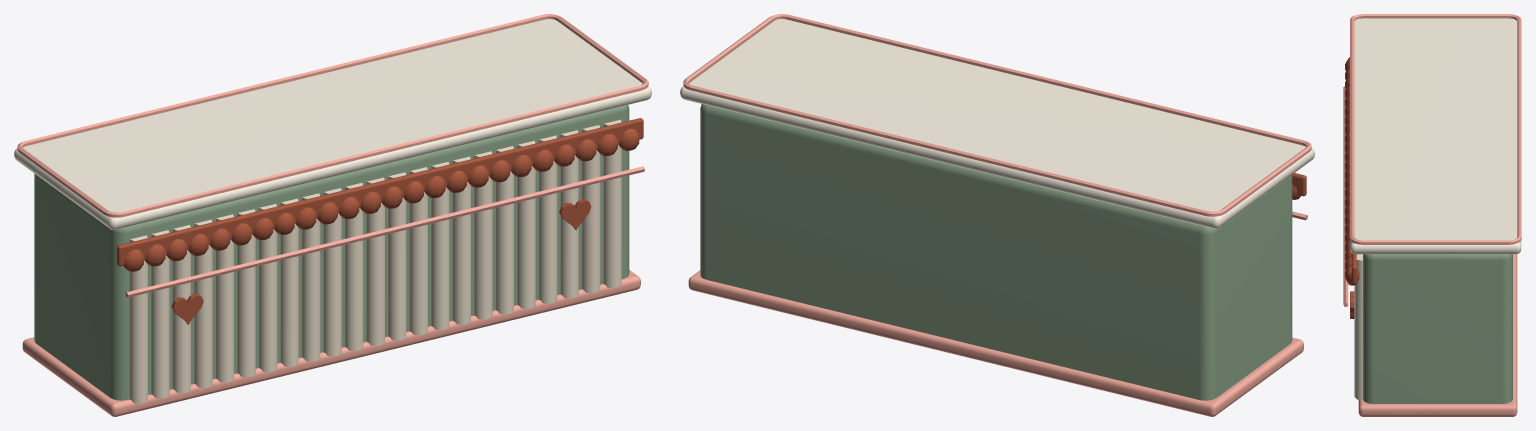
The model's file is counter_service.glb.
3 renders of one model, left to right at view 1: azimuth 30°, elevation 25°; view 2: azimuth 150°, elevation 25°; view 3: azimuth 270°, elevation 25°, orthographic. The views are drawn at different scales.
Visible parts, largest first — view 1: counter_service; view 2: counter_service; view 3: counter_service.
Part boxes in pixels (bbox=[...]): counter_service: bbox=[14, 14, 651, 416]; counter_service: bbox=[680, 14, 1314, 416]; counter_service: bbox=[1343, 14, 1521, 416].
Size of the model in its own units: 2.52 by 0.937 by 0.8318.
